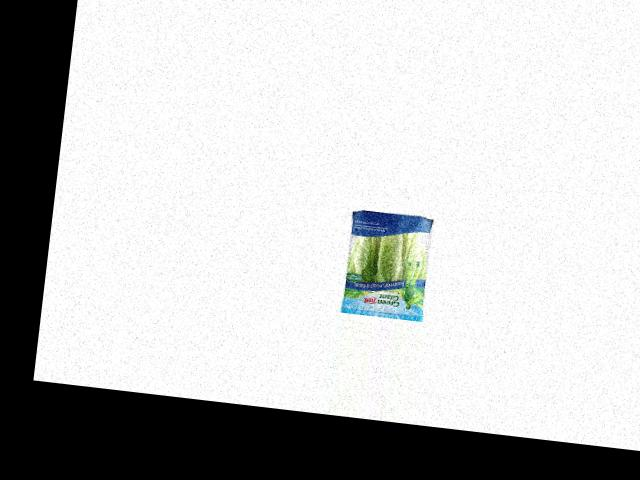lettuce: (340, 204, 437, 317)
